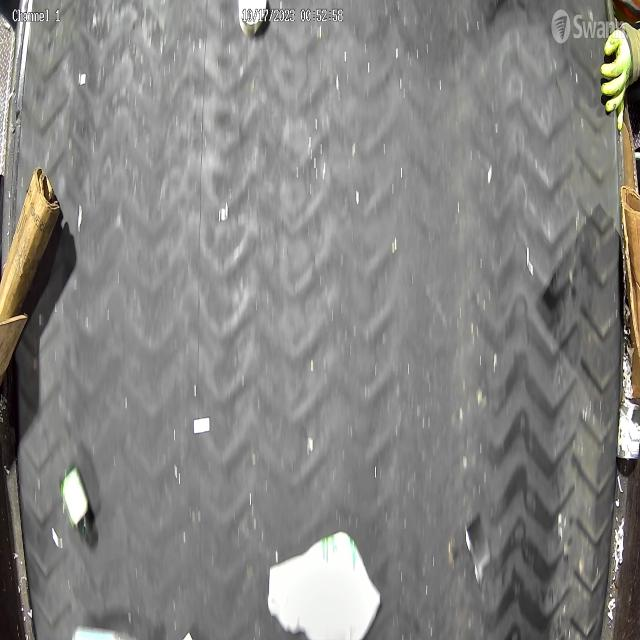can: (617, 403, 640, 459)
milk_jug: (268, 531, 381, 640)
